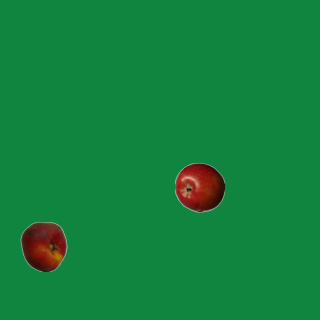Apple Braeburn: (174, 162, 224, 212)
Nectarine Flat: (18, 221, 68, 271)
